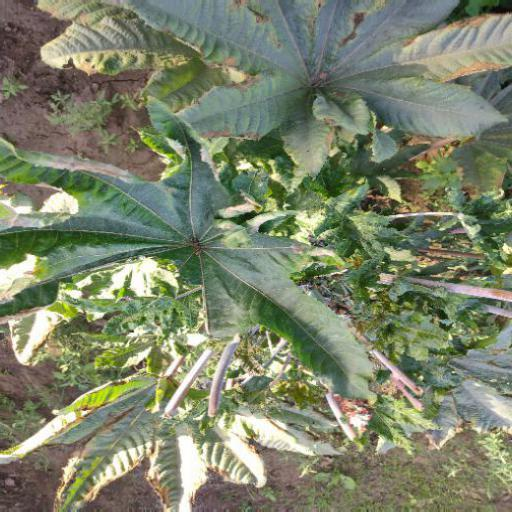weed: (7, 4, 502, 501)
